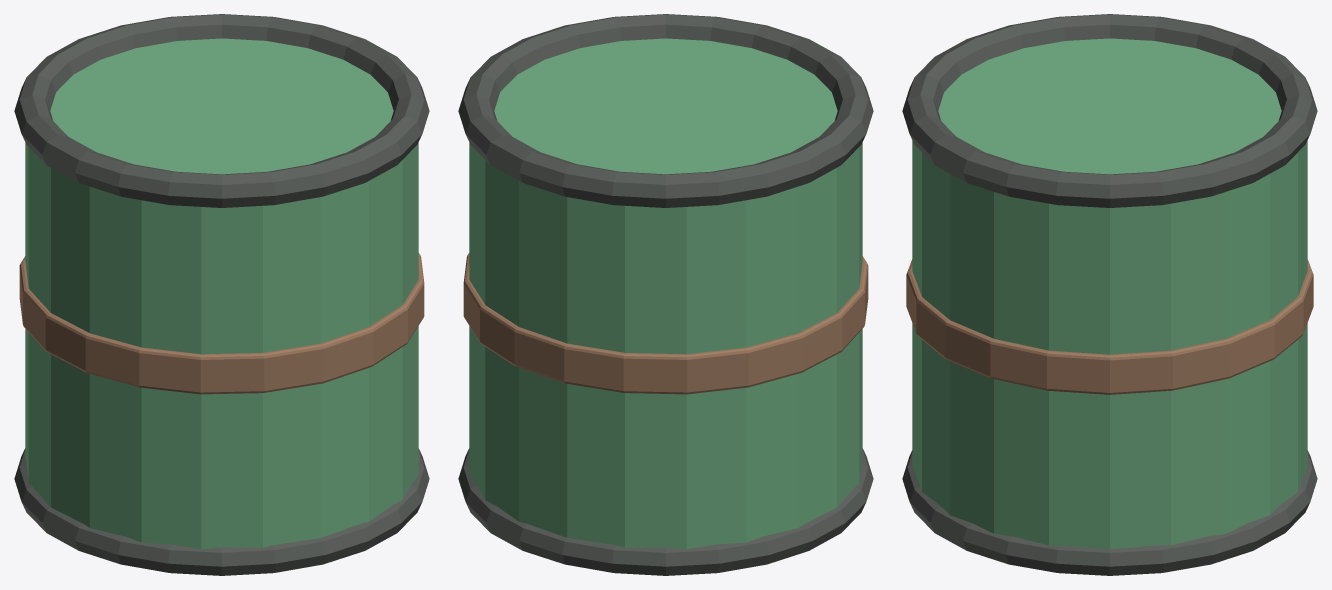
Rendered from barrel.glb.
3 views of the same model, side by side, from view 1: azimuth 30°, elevation 25°; view 2: azimuth 150°, elevation 25°; view 3: azimuth 270°, elevation 25° (orthographic).
Visible parts, largest first — view 1: barrel; view 2: barrel; view 3: barrel.
Boxes of the visible parts, x1,y1,x2,y2 form: barrel: (14,14,429,575); barrel: (458,14,873,575); barrel: (902,14,1317,575).
Size of the model in its own units: 1.16 by 1.23 by 1.16.
